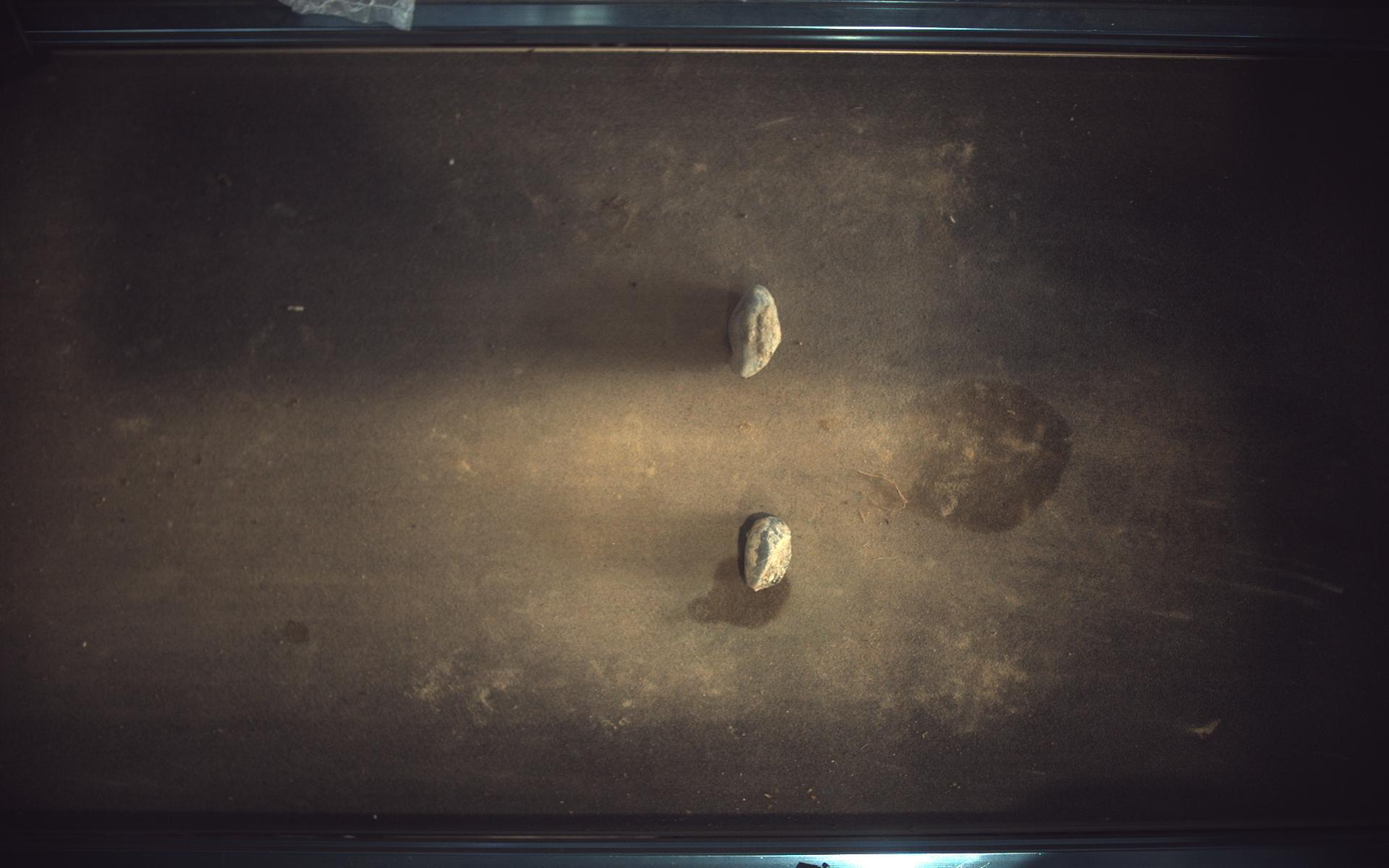stone: (729, 284, 783, 378), (739, 513, 793, 592)
